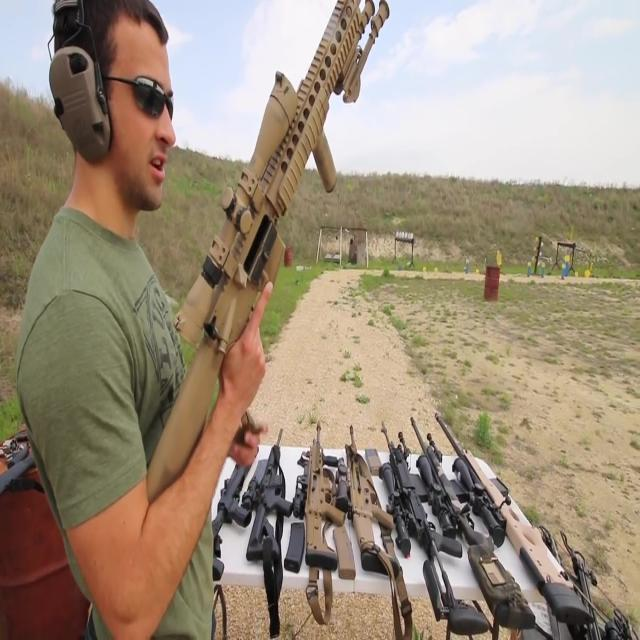Weapon: (114, 0, 402, 556), (191, 394, 613, 640), (0, 364, 59, 508)
